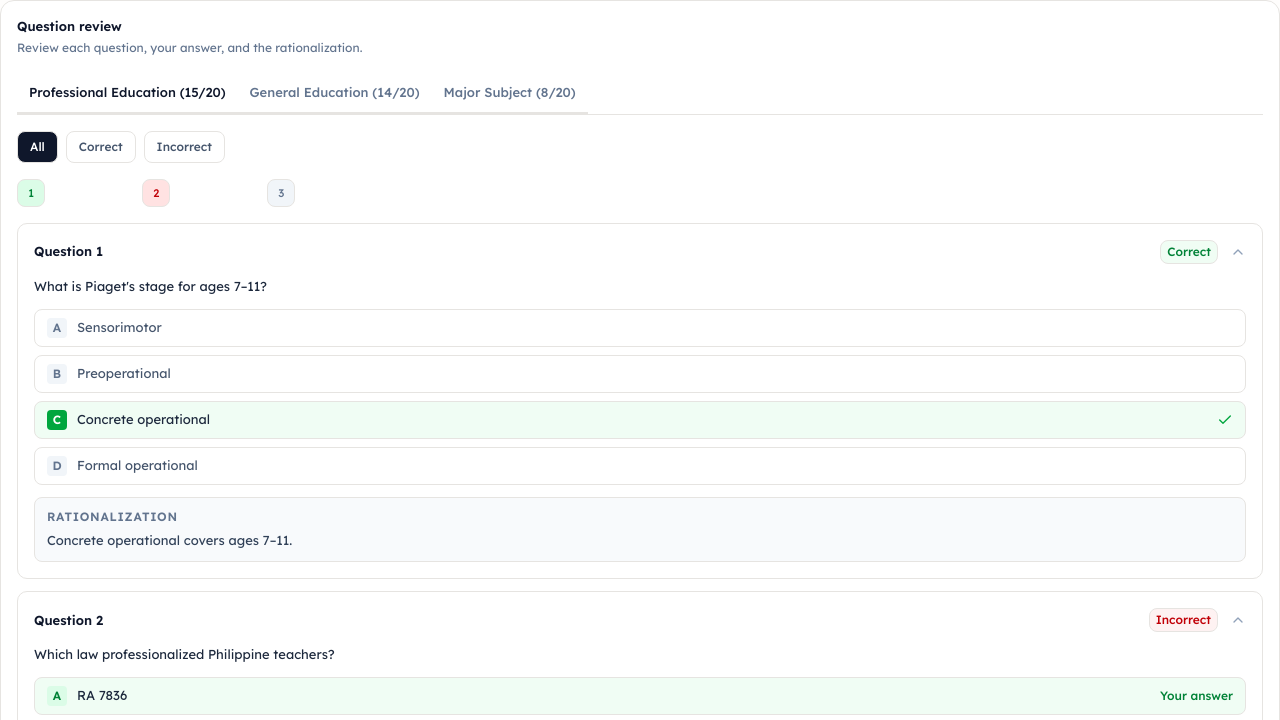
QuestionReview › shows an empty message when the active filter matches nothing
This screenshot has width=1280, height=720.
# Major Subject has a single correct answer — "Incorrect" filters it all out.
Click the tab "Major Subject (8/20)": (510, 93) [432,72,588,114]
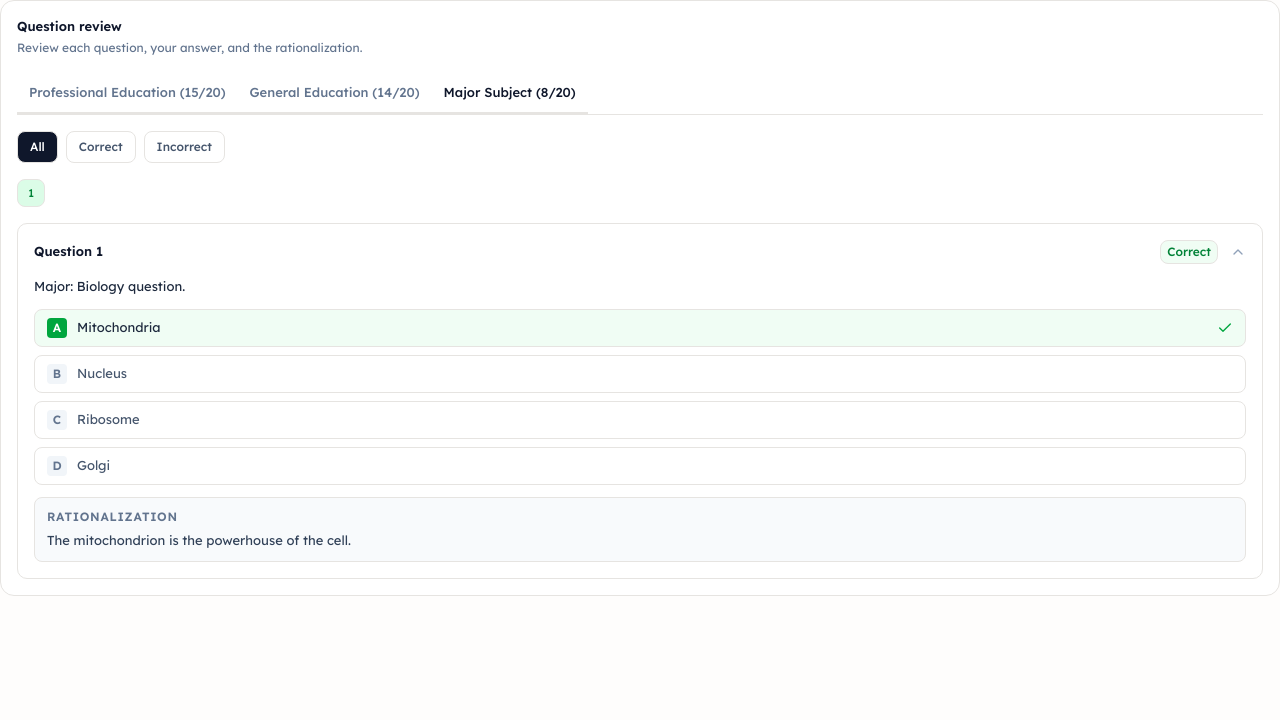
Click the button "Incorrect": (184, 147) [144,131,225,163]
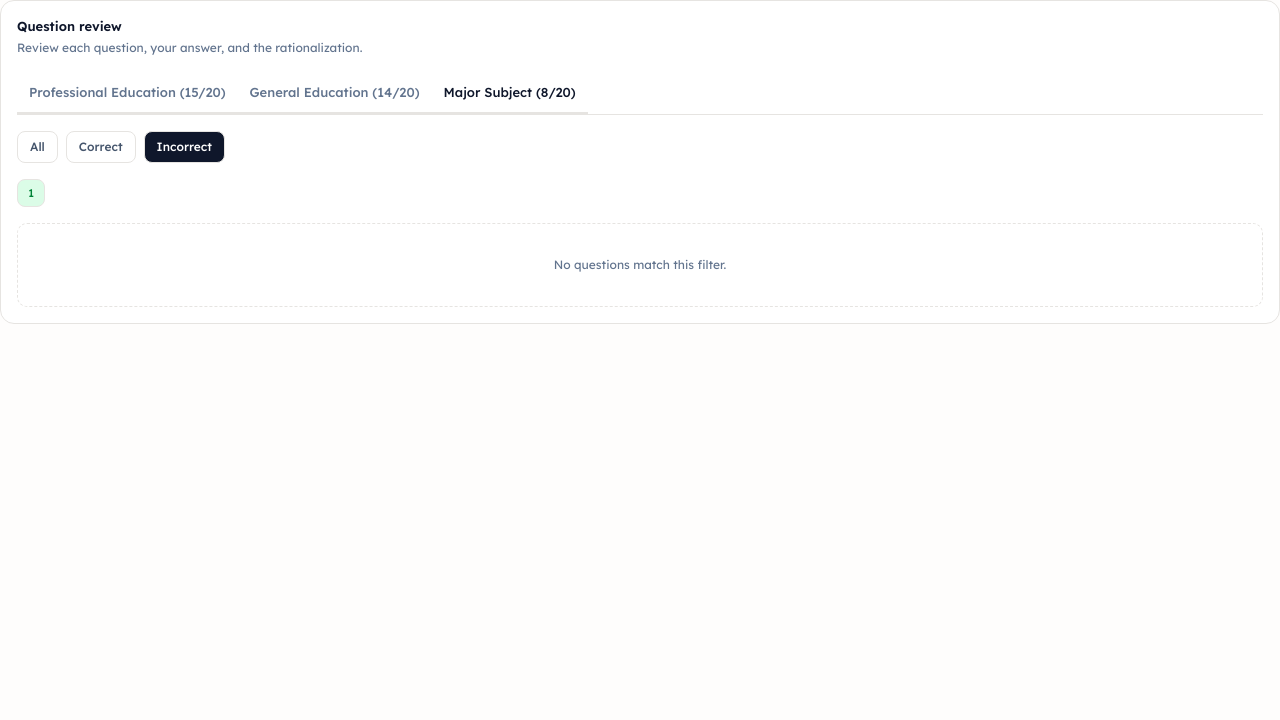
Check: the text "No questions match this filter." is shown, box [17,223,1263,307]
